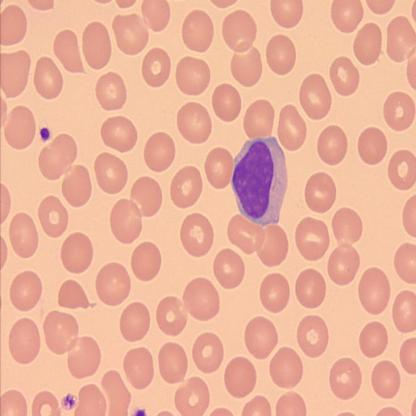Atypical lymphocyte: (234, 138, 287, 225)
